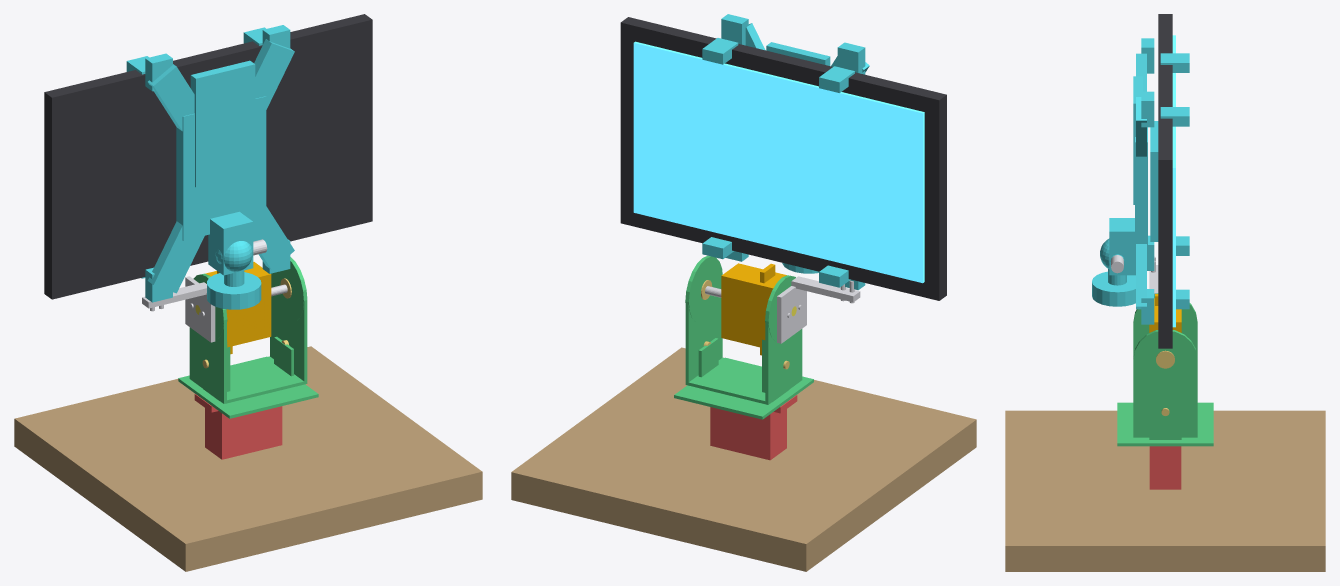
File: tete_2axes.glb
The picture shows the model from 3 angles, left to right: view 1: azimuth 30°, elevation 25°; view 2: azimuth 150°, elevation 25°; view 3: azimuth 270°, elevation 25°; orthographic projection. The views are drawn at different scales.
Parts seen in each view (by area): view 1: BaseBois, Tablette, Coulisseau, PinceDos, PanBody, UFond, TiltBody, UArmL, BracketBase, PinceBras.003, ColHaut, UArmR (+10 smaller); view 2: BaseBois, Ecran, Tablette, TiltBody, PanBody, UFond, UArmL, BracketBase, UArmR, UArcR, EqPlatine, EqBras (+7 smaller); view 3: BaseBois, Tablette, UArmR, UArcR, BracketBase, PanBody, ColHaut, PinceDos, Base14, PincePad, Ecran, UArcL (+7 smaller).
Boxes of the visible parts, x1,y1,x2,y2 form: BaseBois: [14, 346, 482, 571]; Tablette: [44, 14, 372, 299]; Coulisseau: [190, 60, 255, 187]; PinceDos: [176, 96, 266, 240]; PanBody: [205, 406, 282, 459]; UFond: [189, 356, 307, 403]; TiltBody: [205, 262, 271, 347]; UArmL: [189, 319, 226, 400]; BracketBase: [178, 356, 318, 418]; PinceBras.003: [147, 221, 204, 293]; ColHaut: [208, 211, 253, 275]; UArmR: [270, 296, 307, 381]; BaseBois: [511, 347, 976, 571]; Ecran: [633, 41, 924, 283]; Tablette: [620, 17, 946, 300]; TiltBody: [721, 263, 786, 347]; PanBody: [710, 407, 786, 460]; UFond: [685, 357, 802, 404]; UArmL: [765, 321, 802, 401]; BracketBase: [674, 357, 813, 419]; UArmR: [685, 297, 722, 382]; UArcR: [685, 255, 722, 322]; EqPlatine: [777, 286, 806, 343]; EqBras: [791, 276, 860, 302]; BaseBois: [1005, 410, 1325, 571]; Tablette: [1158, 14, 1172, 348]; UArmR: [1133, 360, 1197, 434]; UArcR: [1133, 330, 1197, 388]; BracketBase: [1117, 402, 1213, 446]; PanBody: [1149, 448, 1181, 489]; ColHaut: [1109, 218, 1135, 275]; PinceDos: [1135, 127, 1147, 258]; Base14: [1092, 271, 1135, 306]; PincePad: [1150, 121, 1158, 241]; Ecran: [1172, 35, 1175, 327]; UArcL: [1133, 293, 1197, 339].
Bounding box in the file's own units: 0.235 × 0.287 × 0.2.
